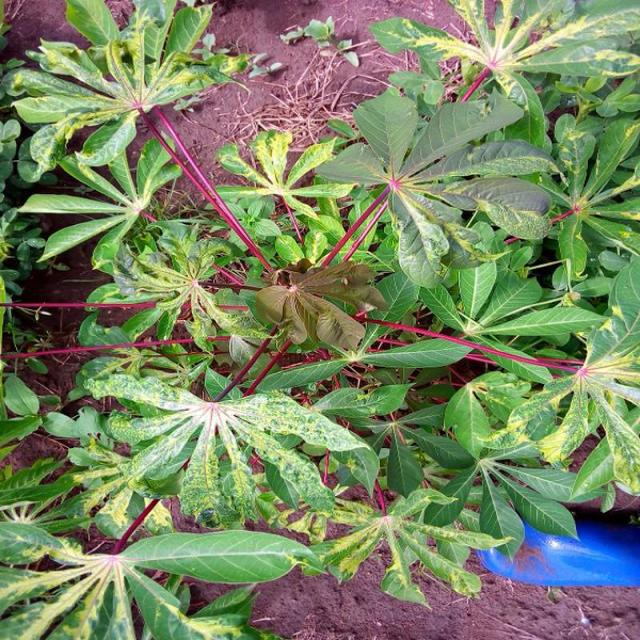cassava leaf: (2, 1, 638, 634), (85, 362, 380, 528)
